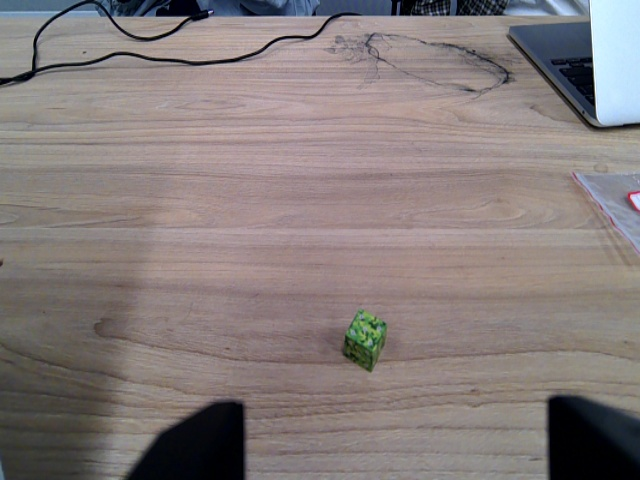grass: (341, 309, 388, 374)
